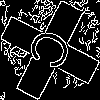C: (25, 25, 83, 78)
